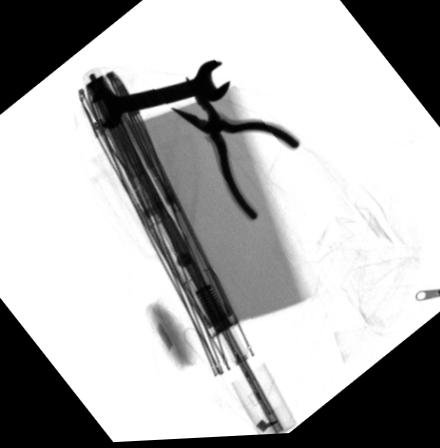Pliers: (170, 76, 301, 225)
Wrench: (89, 61, 229, 129)
